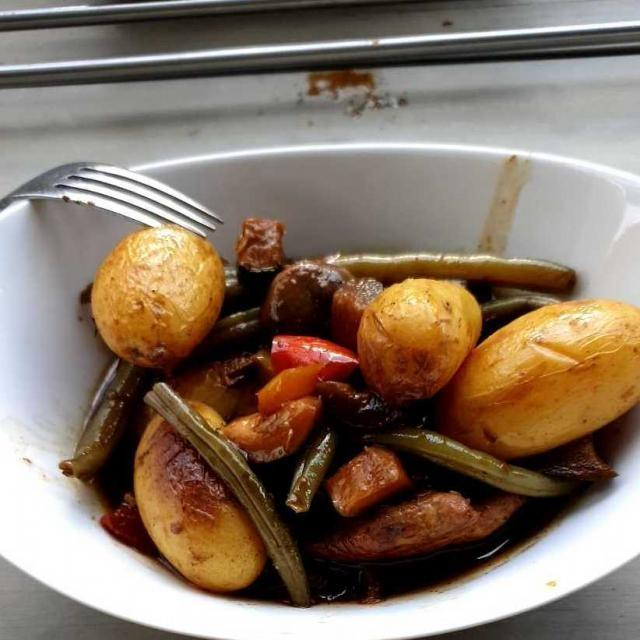sauce: (297, 464, 583, 607)
